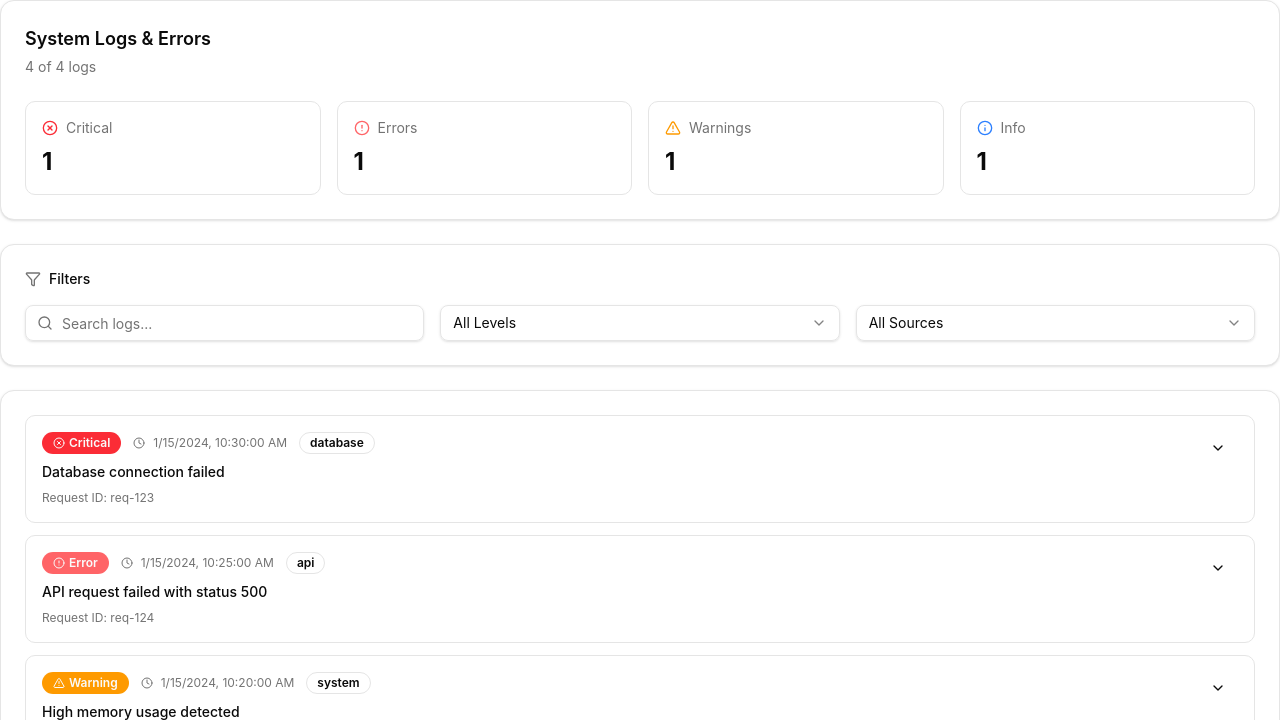
Test: ErrorLogs › expands log entry to show details
Click the button without text in the row of "1/15/2024, 10:30:00 AM" at (1218, 448), box [1198,432,1238,464]
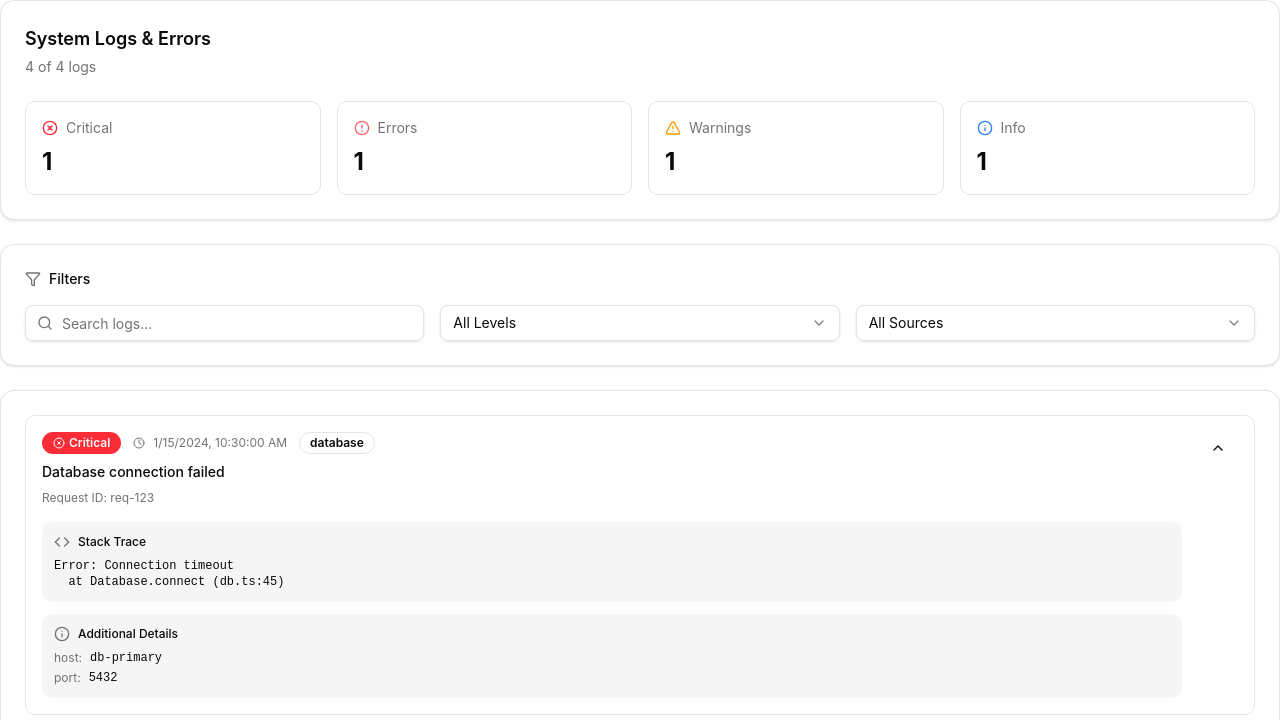
Result: the text "Stack Trace" is shown at [78,534,146,550]
Result: the text "Error: Connection timeout at Database.connect (db.ts:45)" is shown at [54,559,284,589]
